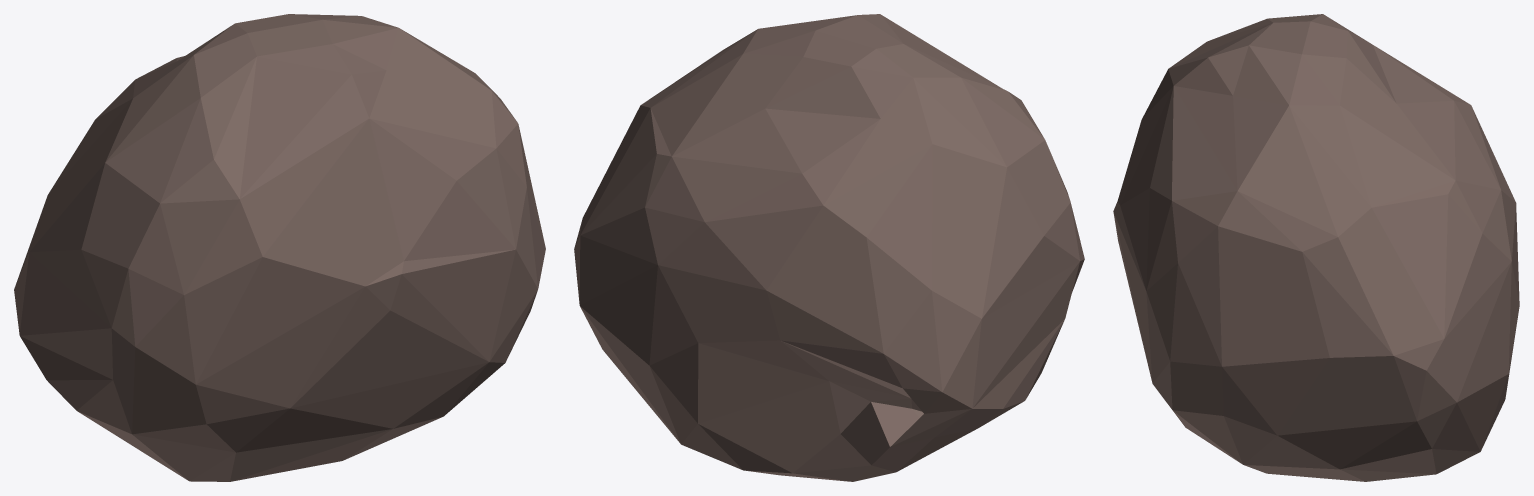
Rendered from Asteroid 1.fbx.
The picture shows the model from 3 angles, left to right: view 1: azimuth 30°, elevation 25°; view 2: azimuth 150°, elevation 25°; view 3: azimuth 270°, elevation 25°; orthographic projection. The views are drawn at different scales.
Parts seen in each view (by area): view 1: Asteroida 1; view 2: Asteroida 1; view 3: Asteroida 1.
Boxes of the visible parts, x1=… form: Asteroida 1: x1=14, y1=14, x2=545, y2=481; Asteroida 1: x1=574, y1=14, x2=1084, y2=481; Asteroida 1: x1=1113, y1=14, x2=1519, y2=481.
Bounding box in the file's own units: 672 × 617 × 550.
